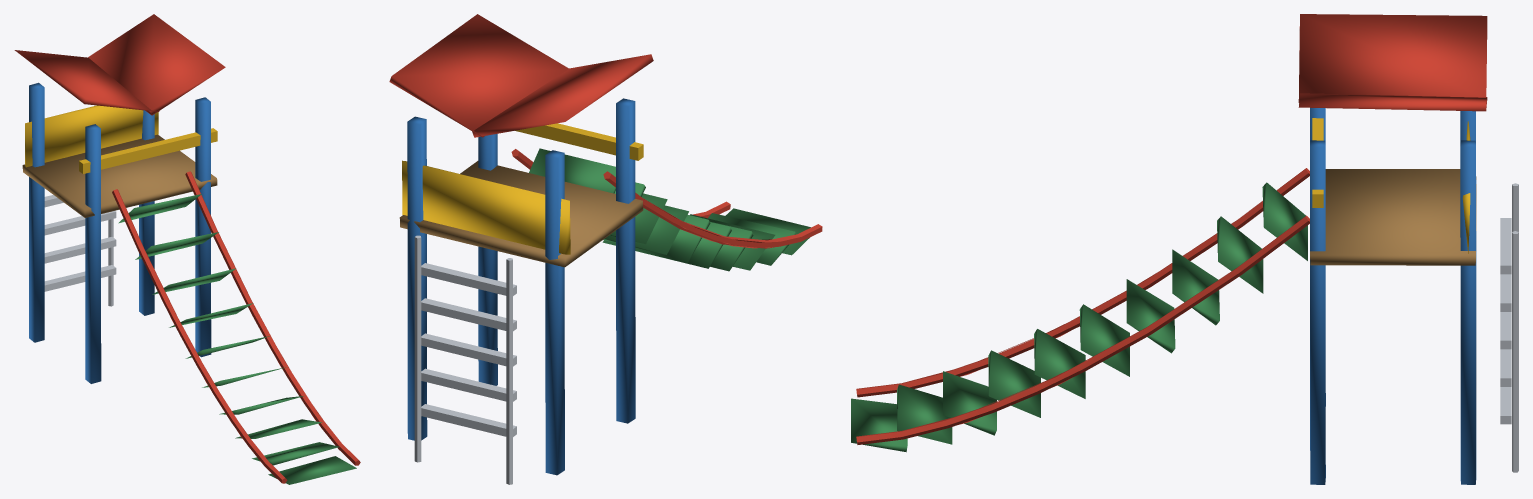
File: lod_playground_slide.glb
3 renders of one model, left to right at view 1: azimuth 30°, elevation 25°; view 2: azimuth 150°, elevation 25°; view 3: azimuth 270°, elevation 25°, orthographic. The views are drawn at different scales.
Parts seen in each view (by area): view 1: playground_slide; view 2: playground_slide; view 3: playground_slide.
Boxes of the visible parts, <box> form: playground_slide: <box>14,14,360,484</box>; playground_slide: <box>389,14,822,484</box>; playground_slide: <box>851,14,1518,484</box>.
Bounding box in the file's own units: 1.16 × 2.28 × 3.55.
